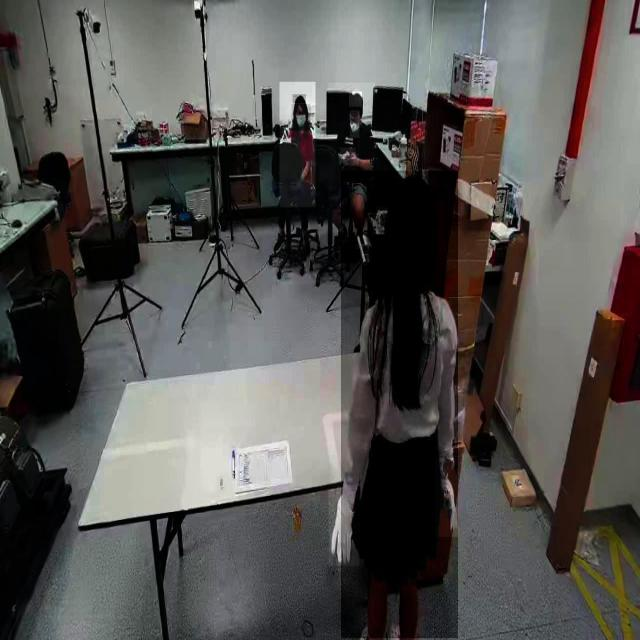face_mask: (292, 104, 310, 131), (350, 110, 360, 138)
hand_glove: (328, 485, 360, 567), (436, 458, 460, 538)
hand_noglove: (343, 154, 359, 167), (340, 148, 356, 159)
head_nohelmet: (384, 174, 436, 222), (349, 91, 363, 108), (292, 94, 306, 104)
person: (341, 171, 459, 639), (328, 82, 376, 234), (280, 82, 316, 208)
